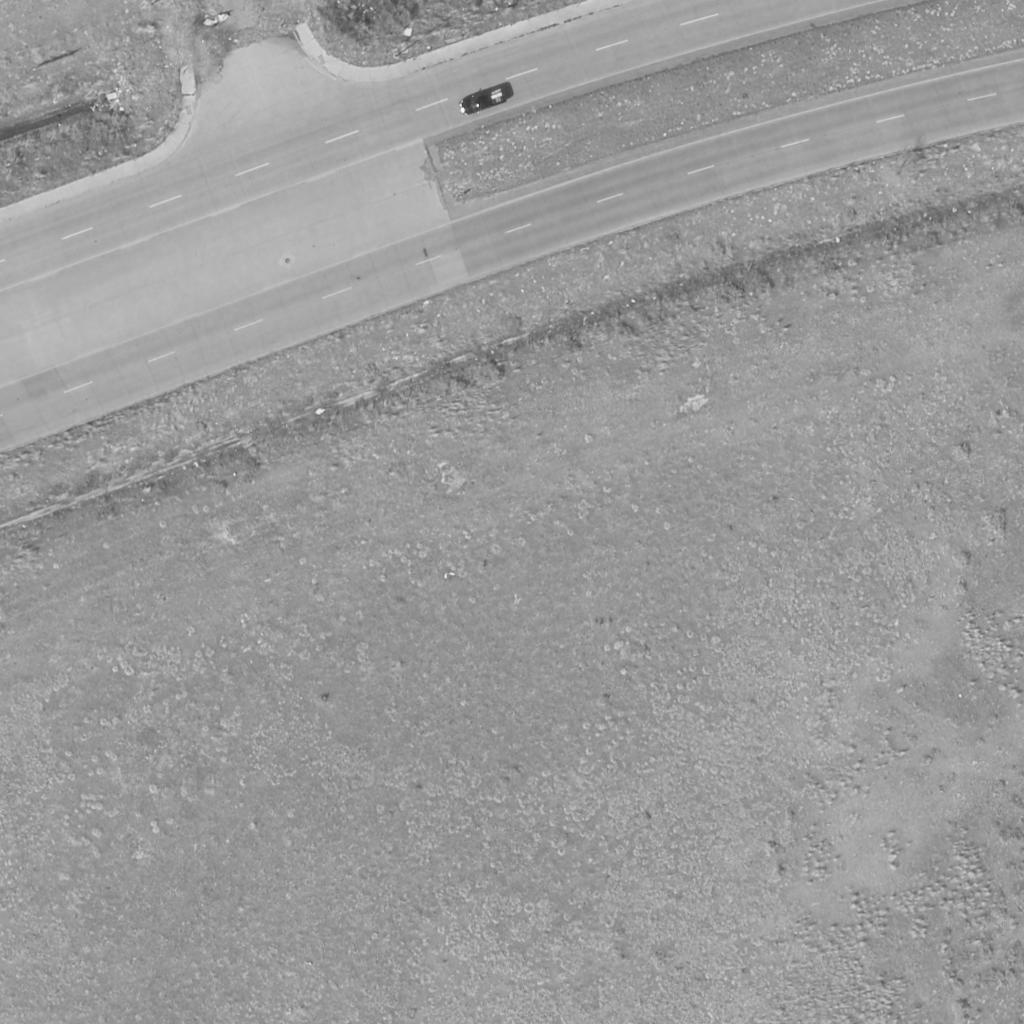vehicle: (460, 87, 508, 117)
